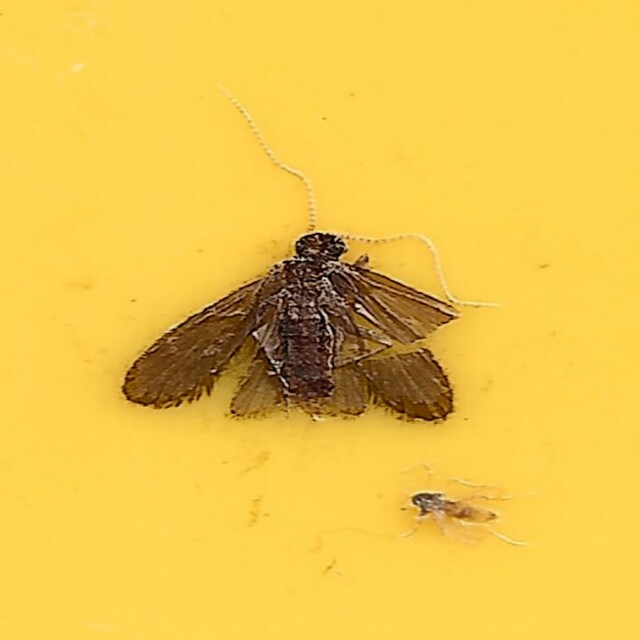Nematocera: (398, 480, 518, 547)
Trichoptera: (122, 93, 481, 424)
